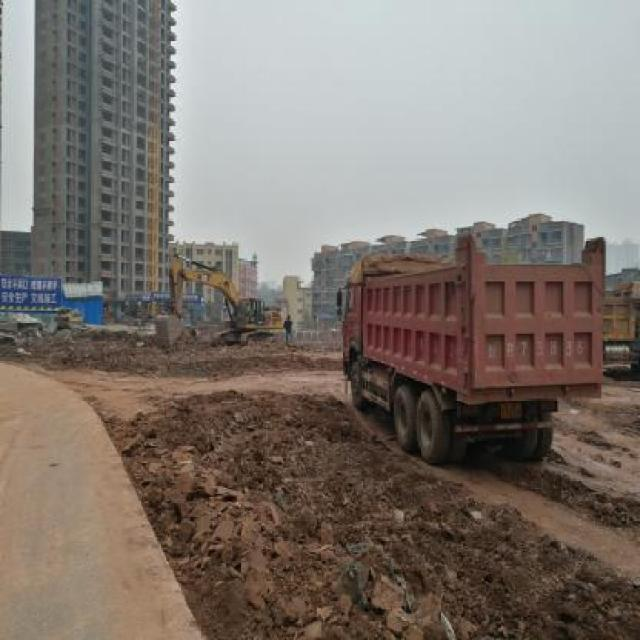dump truck: (336, 235, 605, 466)
excavator: (151, 257, 287, 352)
